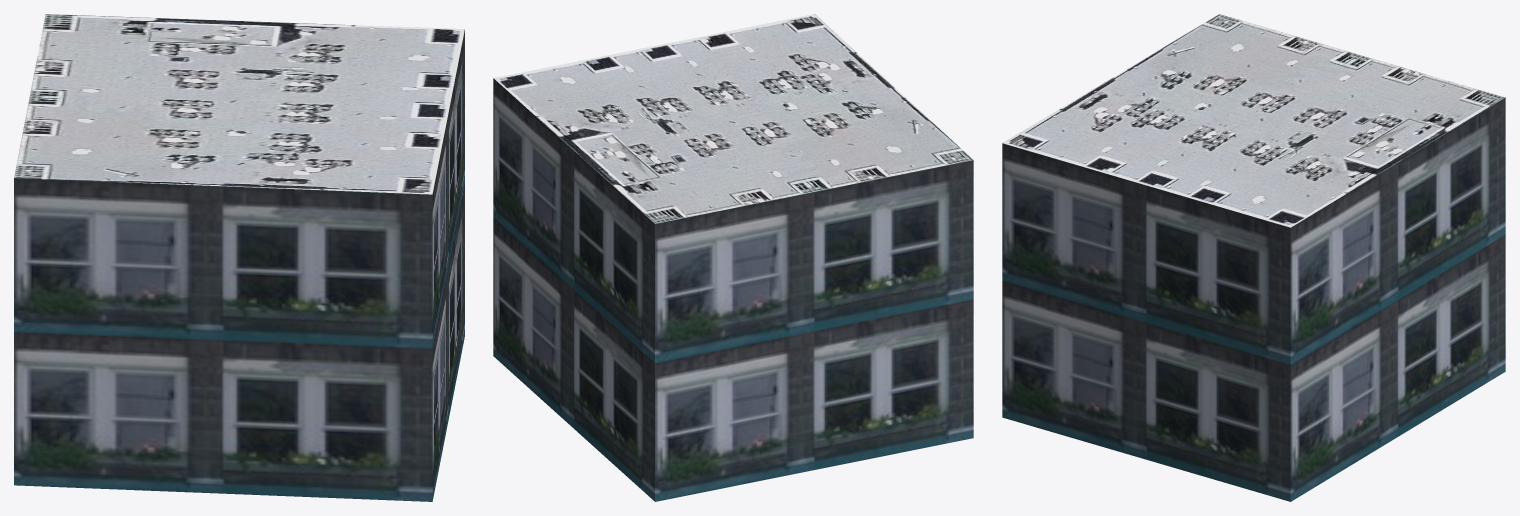
Rendered from ResTex__1865.fbx.
3 views of the same model, side by side, from view 1: azimuth 30°, elevation 25°; view 2: azimuth 150°, elevation 25°; view 3: azimuth 270°, elevation 25° (orthographic). The views are drawn at different scales.
Visible parts, largest first — view 1: CityEngineMaterial_11_m, CityEngineMaterial_m; view 2: CityEngineMaterial_11_m, CityEngineMaterial_m; view 3: CityEngineMaterial_11_m, CityEngineMaterial_m.
Part boxes in pixels (left/top/right/bottom): CityEngineMaterial_11_m: left=14, top=30, right=464, bottom=501; CityEngineMaterial_m: left=14, top=14, right=464, bottom=194; CityEngineMaterial_11_m: left=493, top=78, right=973, bottom=501; CityEngineMaterial_m: left=493, top=14, right=972, bottom=223; CityEngineMaterial_11_m: left=1002, top=97, right=1505, bottom=501; CityEngineMaterial_m: left=1003, top=14, right=1504, bottom=227.
Bounding box in the file's own units: 10.03 × 6 × 9.97.
Materials: 2 (2 with a texture image).
